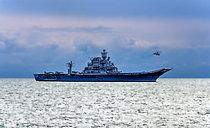MIL_Ship: (33, 48, 174, 84)
